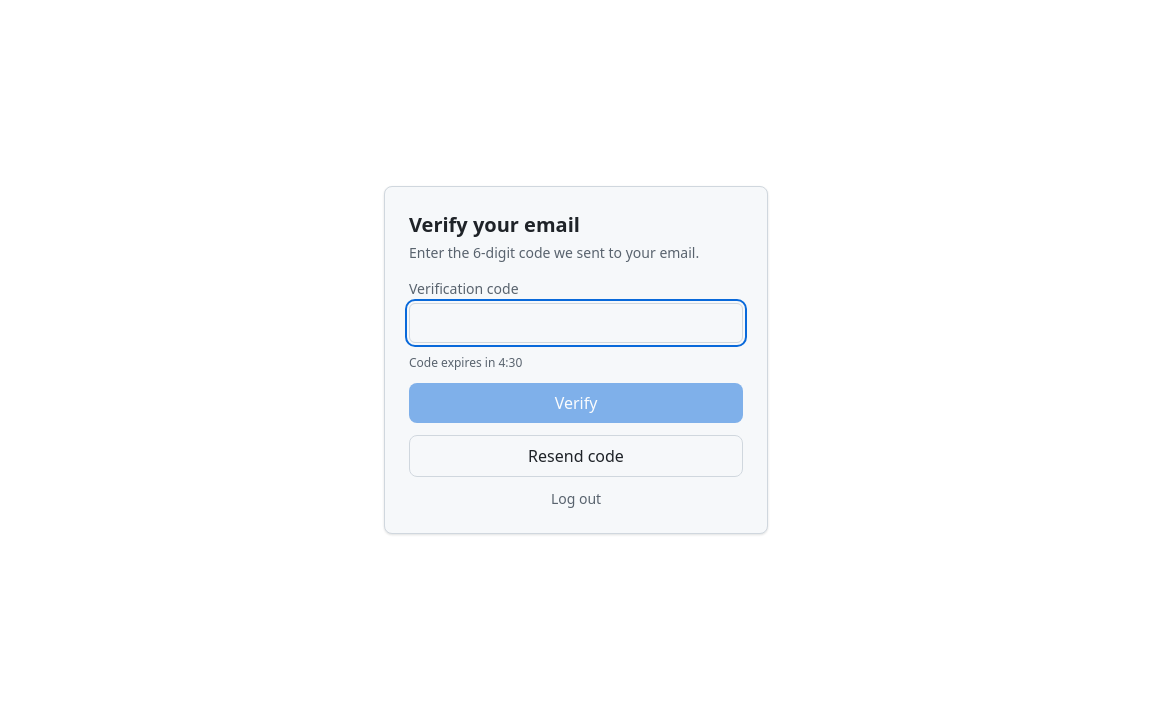
Scenario: resend 429 {code:email_limit} → lỗi i18n, không reset cooldown
This screenshot has width=1152, height=720.
Click the button with test id "btn-resend": (576, 456) x1=409 y1=435 x2=743 y2=477
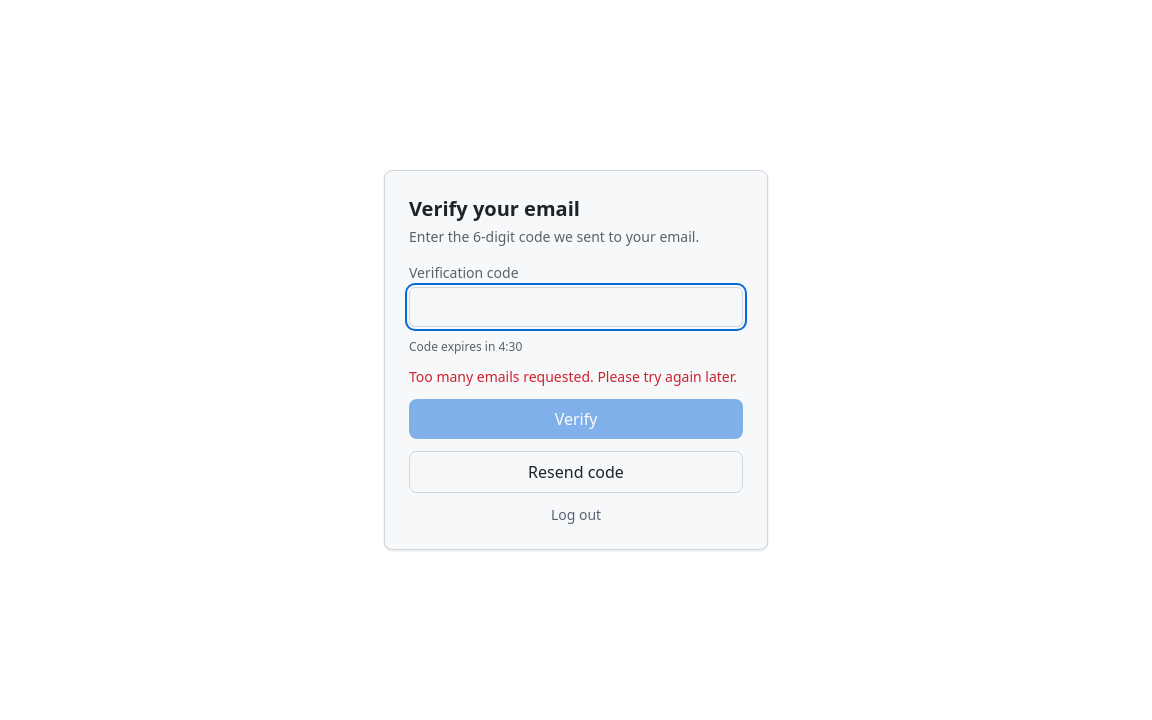
Expected: the text with test id "verify-ttl" shows "4:30", x1=409 y1=338 x2=522 y2=355
Result: the message with test id "error-detail" reads "Too many emails requested. Please try again later." at x1=409 y1=367 x2=737 y2=386
